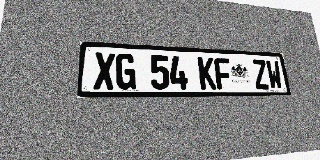4: (169, 56, 188, 89)
5: (150, 55, 170, 89)
F: (214, 58, 232, 89)
G: (116, 53, 136, 89)
K: (198, 57, 217, 89)
W: (265, 60, 283, 89)
X: (93, 52, 115, 89)
Z: (252, 59, 270, 89)
